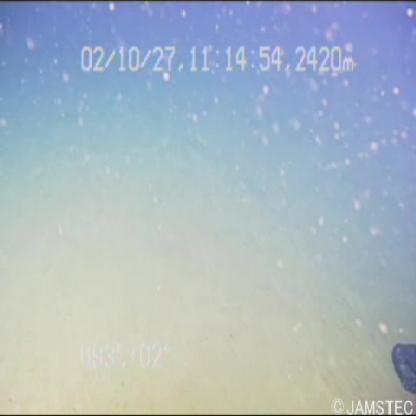Rác: (380, 331, 416, 402)
